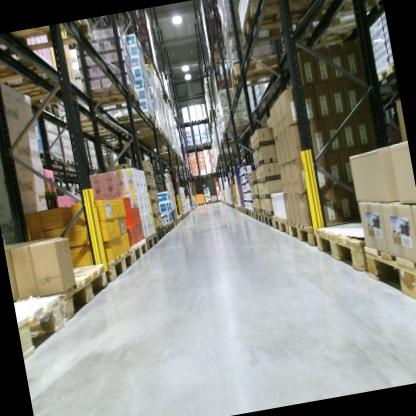pallet: (10, 256, 115, 342), (360, 234, 416, 320), (233, 0, 330, 46), (313, 213, 375, 282), (14, 290, 73, 359), (0, 18, 94, 53), (224, 48, 297, 93), (11, 84, 82, 118), (85, 79, 142, 116), (0, 31, 41, 81), (67, 105, 113, 135), (100, 247, 137, 283), (287, 213, 320, 251), (114, 107, 158, 133), (130, 120, 162, 140), (127, 236, 149, 261), (272, 212, 292, 239), (205, 47, 229, 68), (222, 119, 254, 133), (143, 230, 160, 253), (369, 66, 390, 83), (144, 62, 160, 78), (49, 152, 65, 167), (262, 210, 273, 229), (155, 225, 167, 241), (65, 155, 80, 166), (385, 58, 395, 74), (254, 208, 264, 223), (248, 206, 256, 221), (162, 222, 171, 235), (167, 220, 175, 231), (171, 217, 178, 228), (244, 206, 250, 218), (176, 214, 183, 224), (174, 216, 181, 225), (241, 206, 246, 215), (238, 204, 242, 214)
